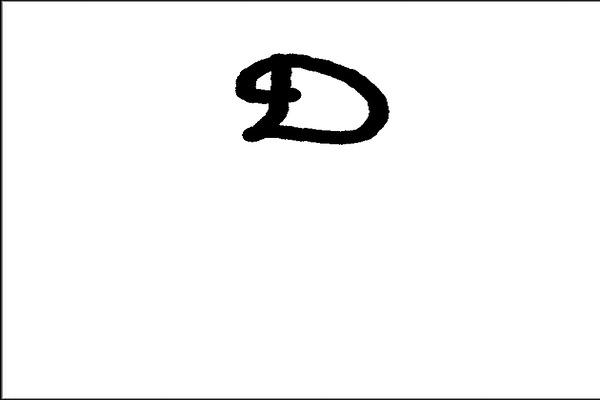D: (231, 46, 393, 151)
